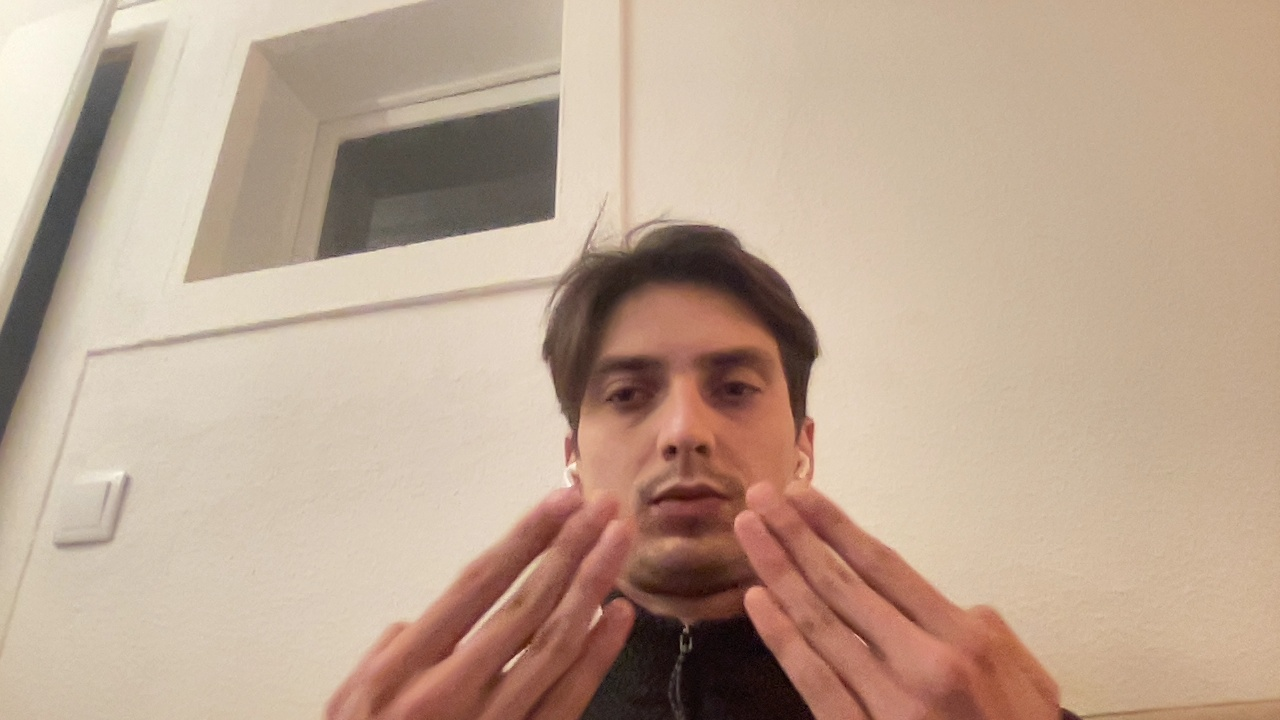Thank you: (699, 431, 1095, 720), (261, 438, 655, 720)
